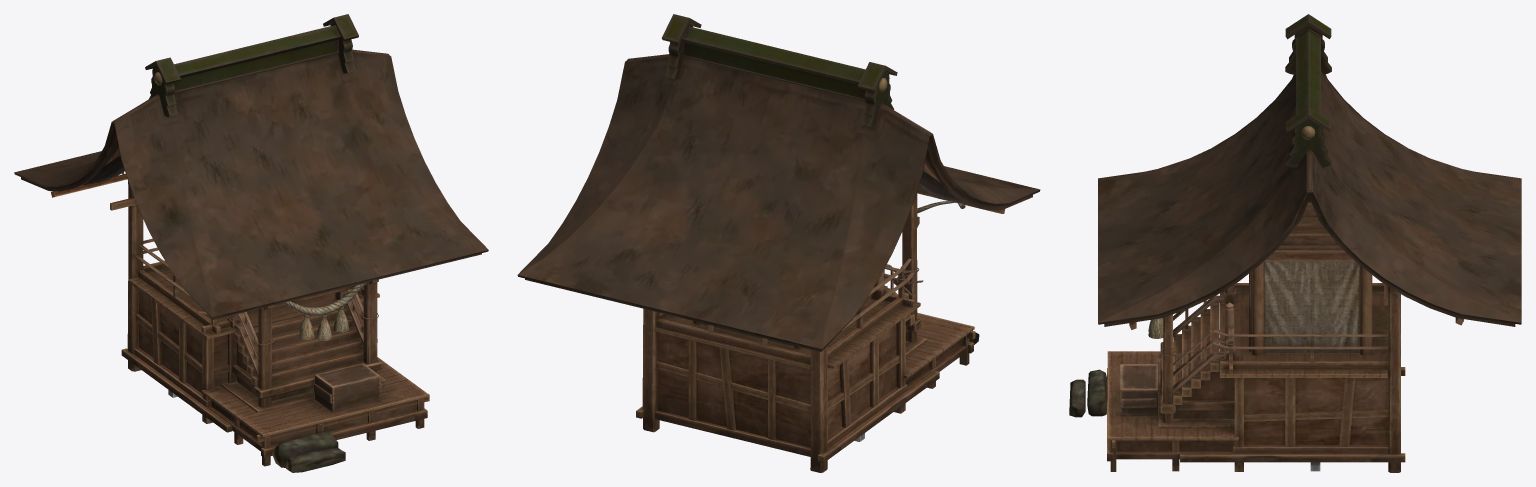
Rendered from temple-transformed.glb.
The picture shows the model from 3 angles, left to right: view 1: azimuth 30°, elevation 25°; view 2: azimuth 150°, elevation 25°; view 3: azimuth 270°, elevation 25°; orthographic projection. The views are drawn at different scales.
Parts seen in each view (by area): view 1: polySurface1168_lambert1_0; view 2: polySurface1168_lambert1_0; view 3: polySurface1168_lambert1_0.
Boxes of the visible parts, left/top/right/bottom form: polySurface1168_lambert1_0: left=14, top=14, right=488, bottom=472; polySurface1168_lambert1_0: left=517, top=14, right=1040, bottom=472; polySurface1168_lambert1_0: left=1069, top=14, right=1521, bottom=472.
Bounding box in the file's own units: 5.47 × 6.46 × 7.24.
1 material, 1 textured.
